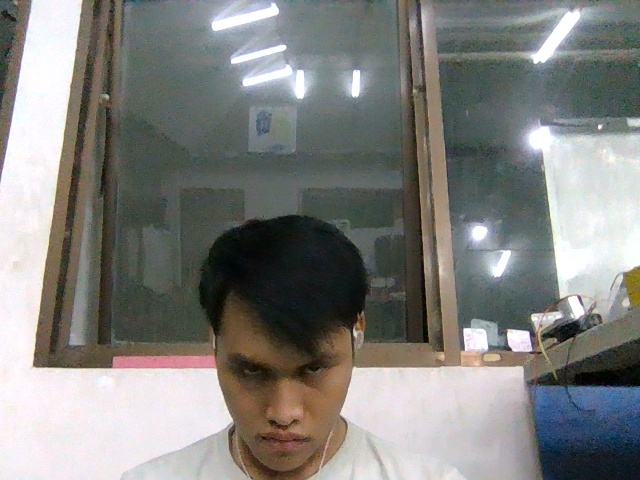mask_off: (224, 394, 345, 470)
